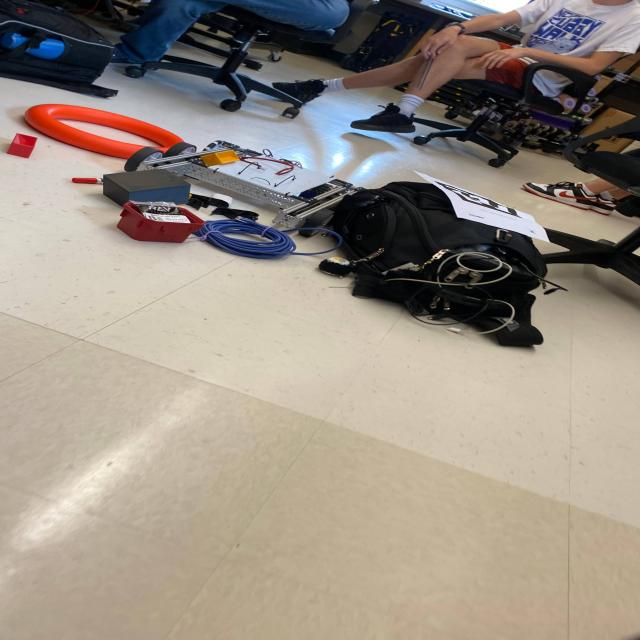red-specimen: (7, 134, 37, 158)
yellow-specimen: (201, 150, 240, 167)
